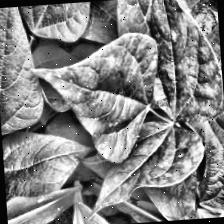Bean Rust: (29, 33, 162, 164), (80, 127, 211, 218), (147, 0, 224, 126), (176, 0, 218, 35)
